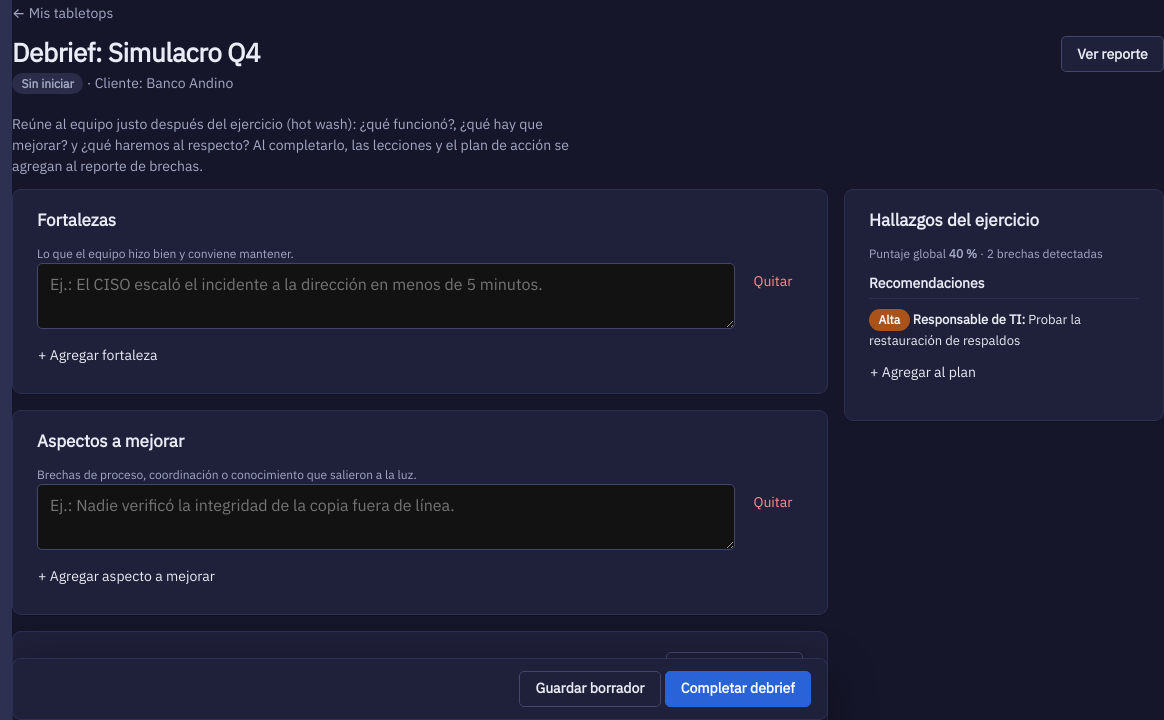
it: Debrief (PC-45) › suma una recomendación del reporte al plan con su responsable y prioridad
Click the button "+ Agregar al plan" at (928,372), box [869,354,987,390]
(page scrolled)
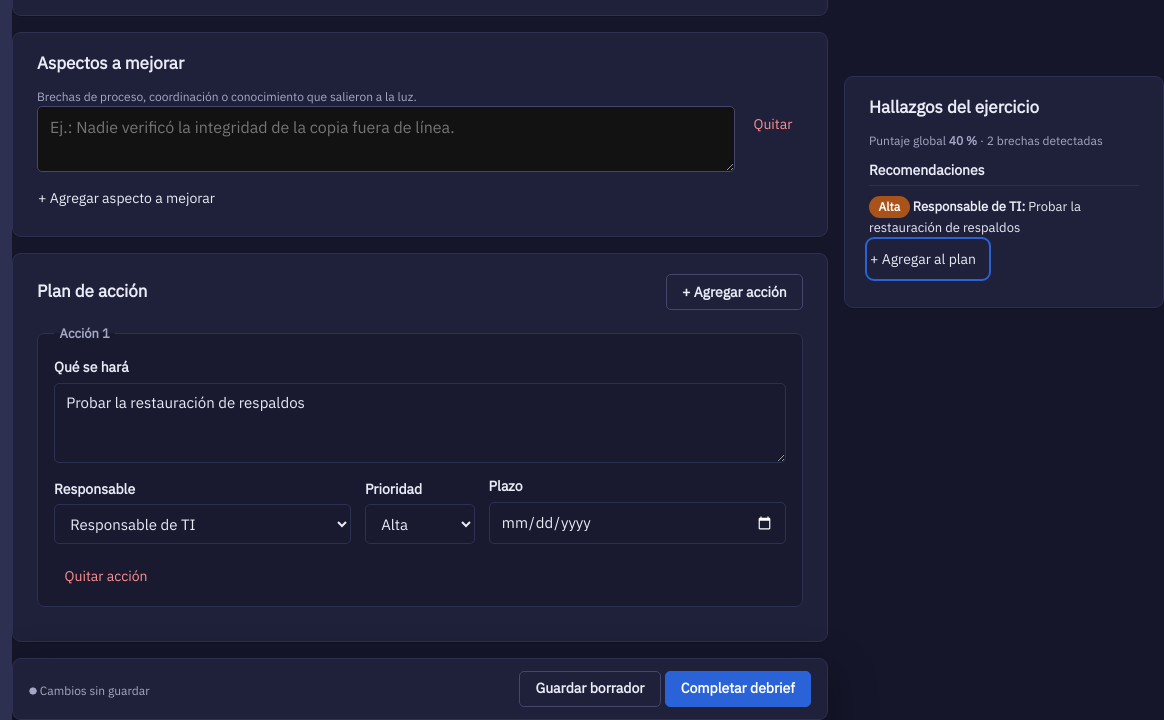
Now the text box labelled "Qué se hará" holds "Probar la restauración de respaldos", box [54,383,786,463]
Now the dropdown labelled "Responsable" shows "Responsable de TI", box [54,504,351,544]
Now the dropdown labelled "Prioridad" shows "Alta", box [365,504,475,544]
